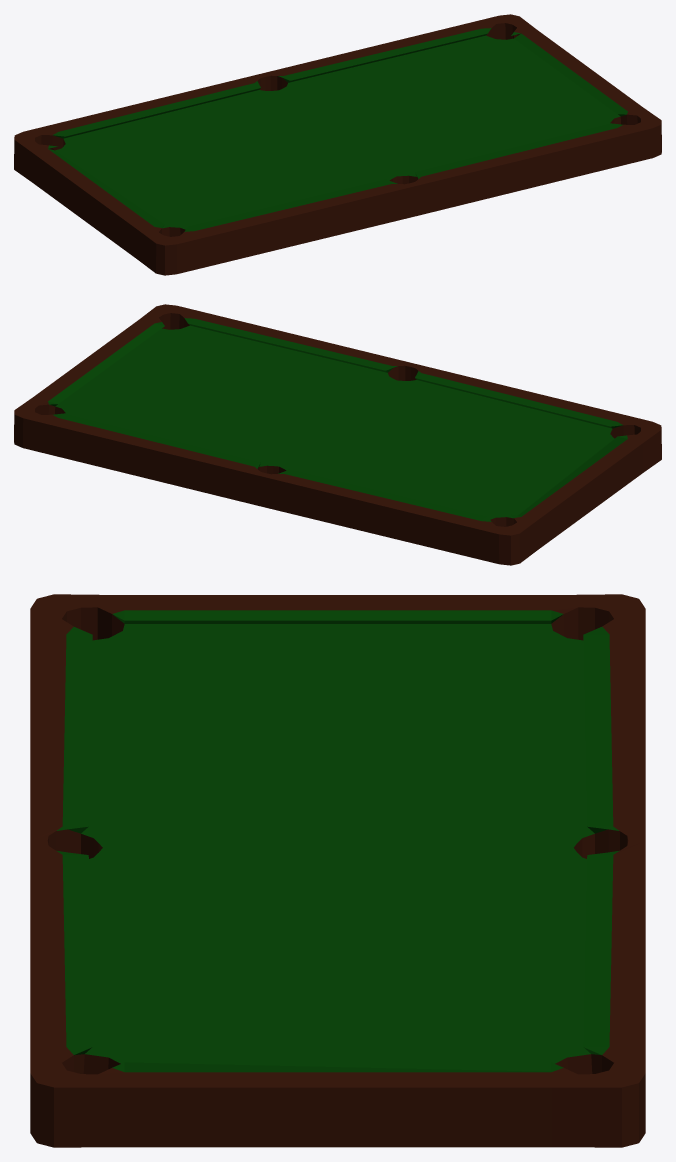
Rendered from billhard.fbx.
3 views of the same model, one above another, from view 1: azimuth 30°, elevation 25°; view 2: azimuth 150°, elevation 25°; view 3: azimuth 270°, elevation 25° (orthographic). The views are drawn at different scales.
Parts seen in each view (by area): view 1: Billard; view 2: Billard; view 3: Billard.
Boxes of the visible parts, left/top/right/bottom form: Billard: left=14, top=14, right=661, bottom=275; Billard: left=14, top=304, right=661, bottom=565; Billard: left=30, top=594, right=645, bottom=1147.
Size of the model in its own units: 887 by 50.87 by 467.
